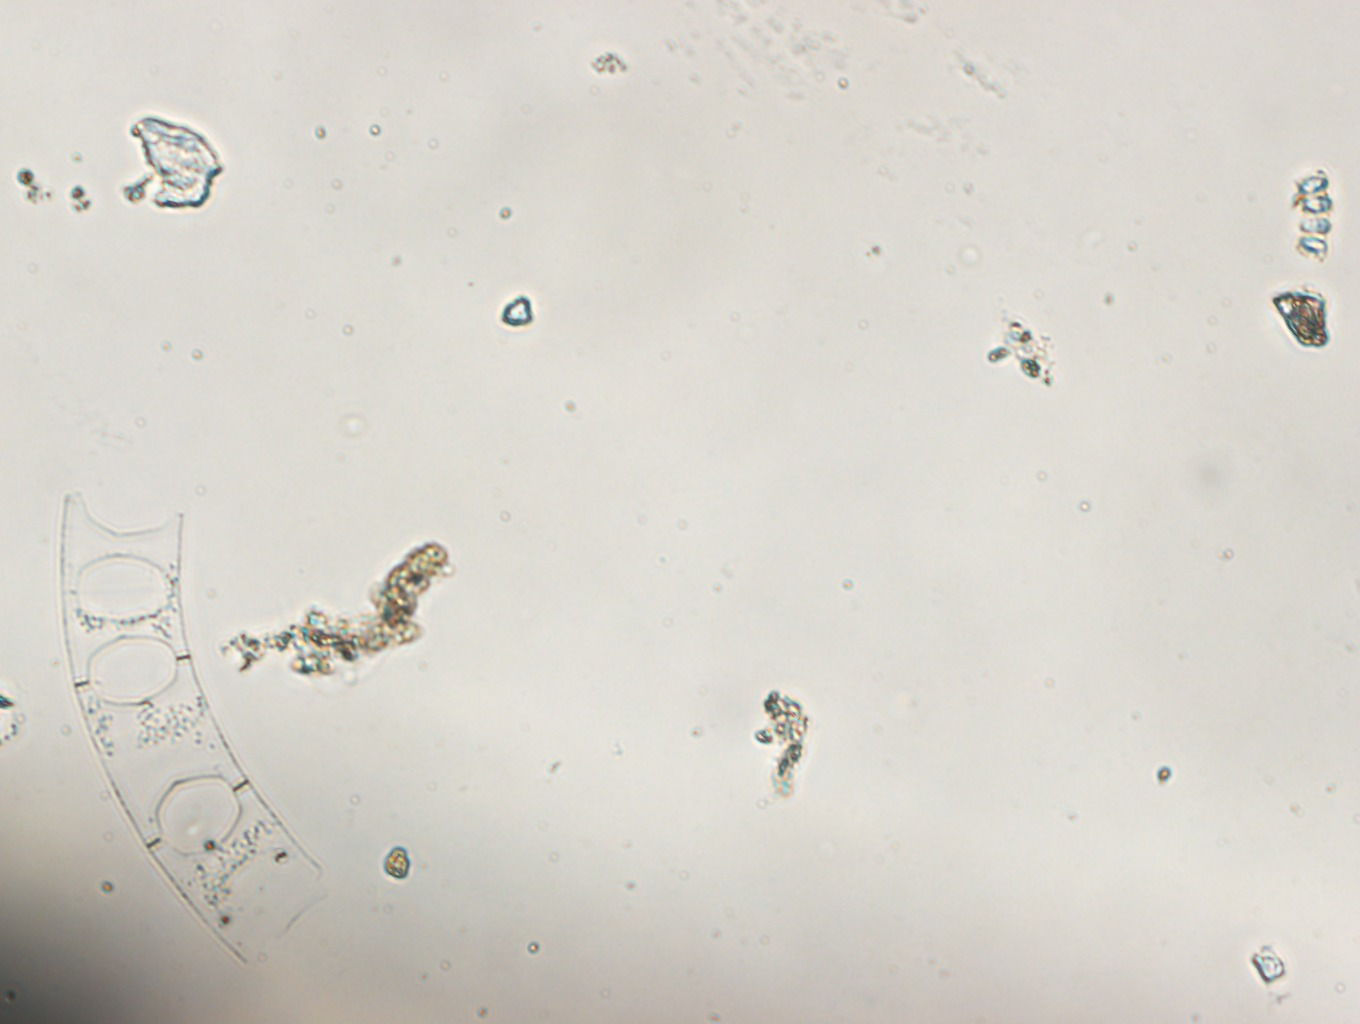eucampia: (58, 490, 321, 970)
skeletonema: (1293, 167, 1332, 264)
